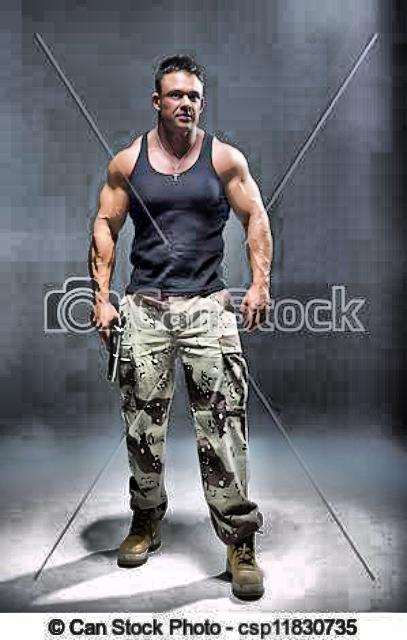pistol: (91, 316, 125, 382)
